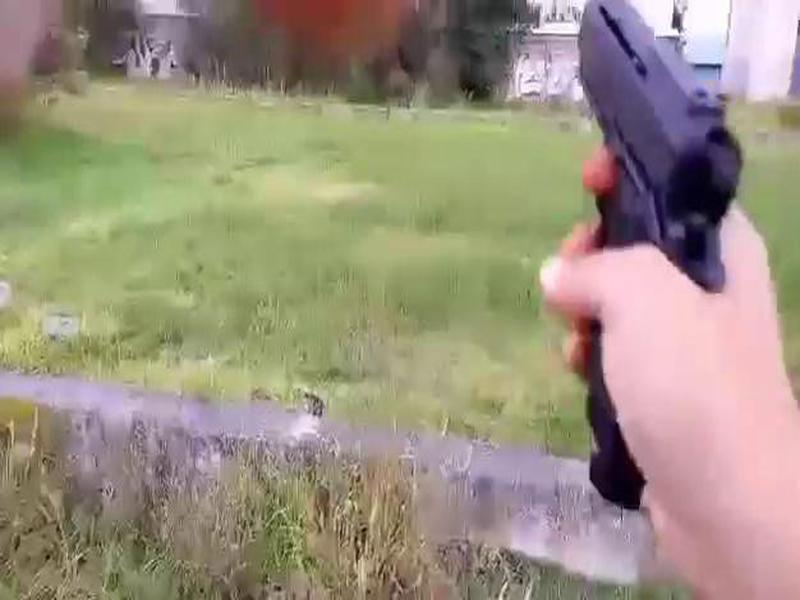Pistola: (563, 1, 744, 427)
